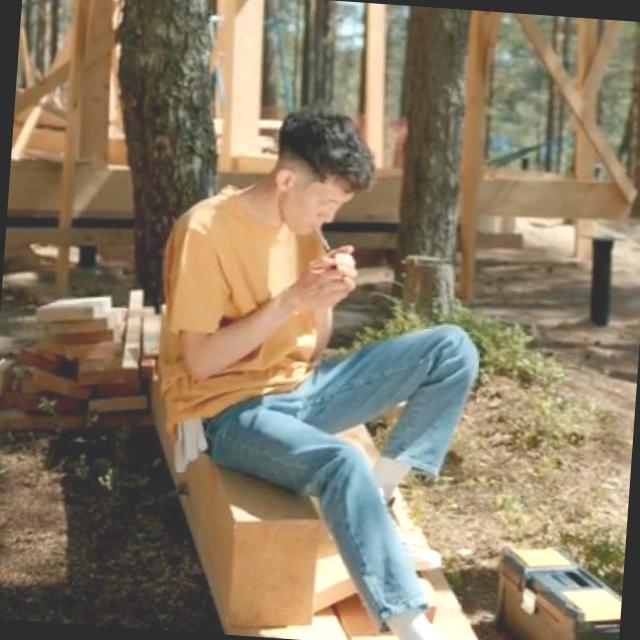cigarette: (308, 213, 356, 268)
